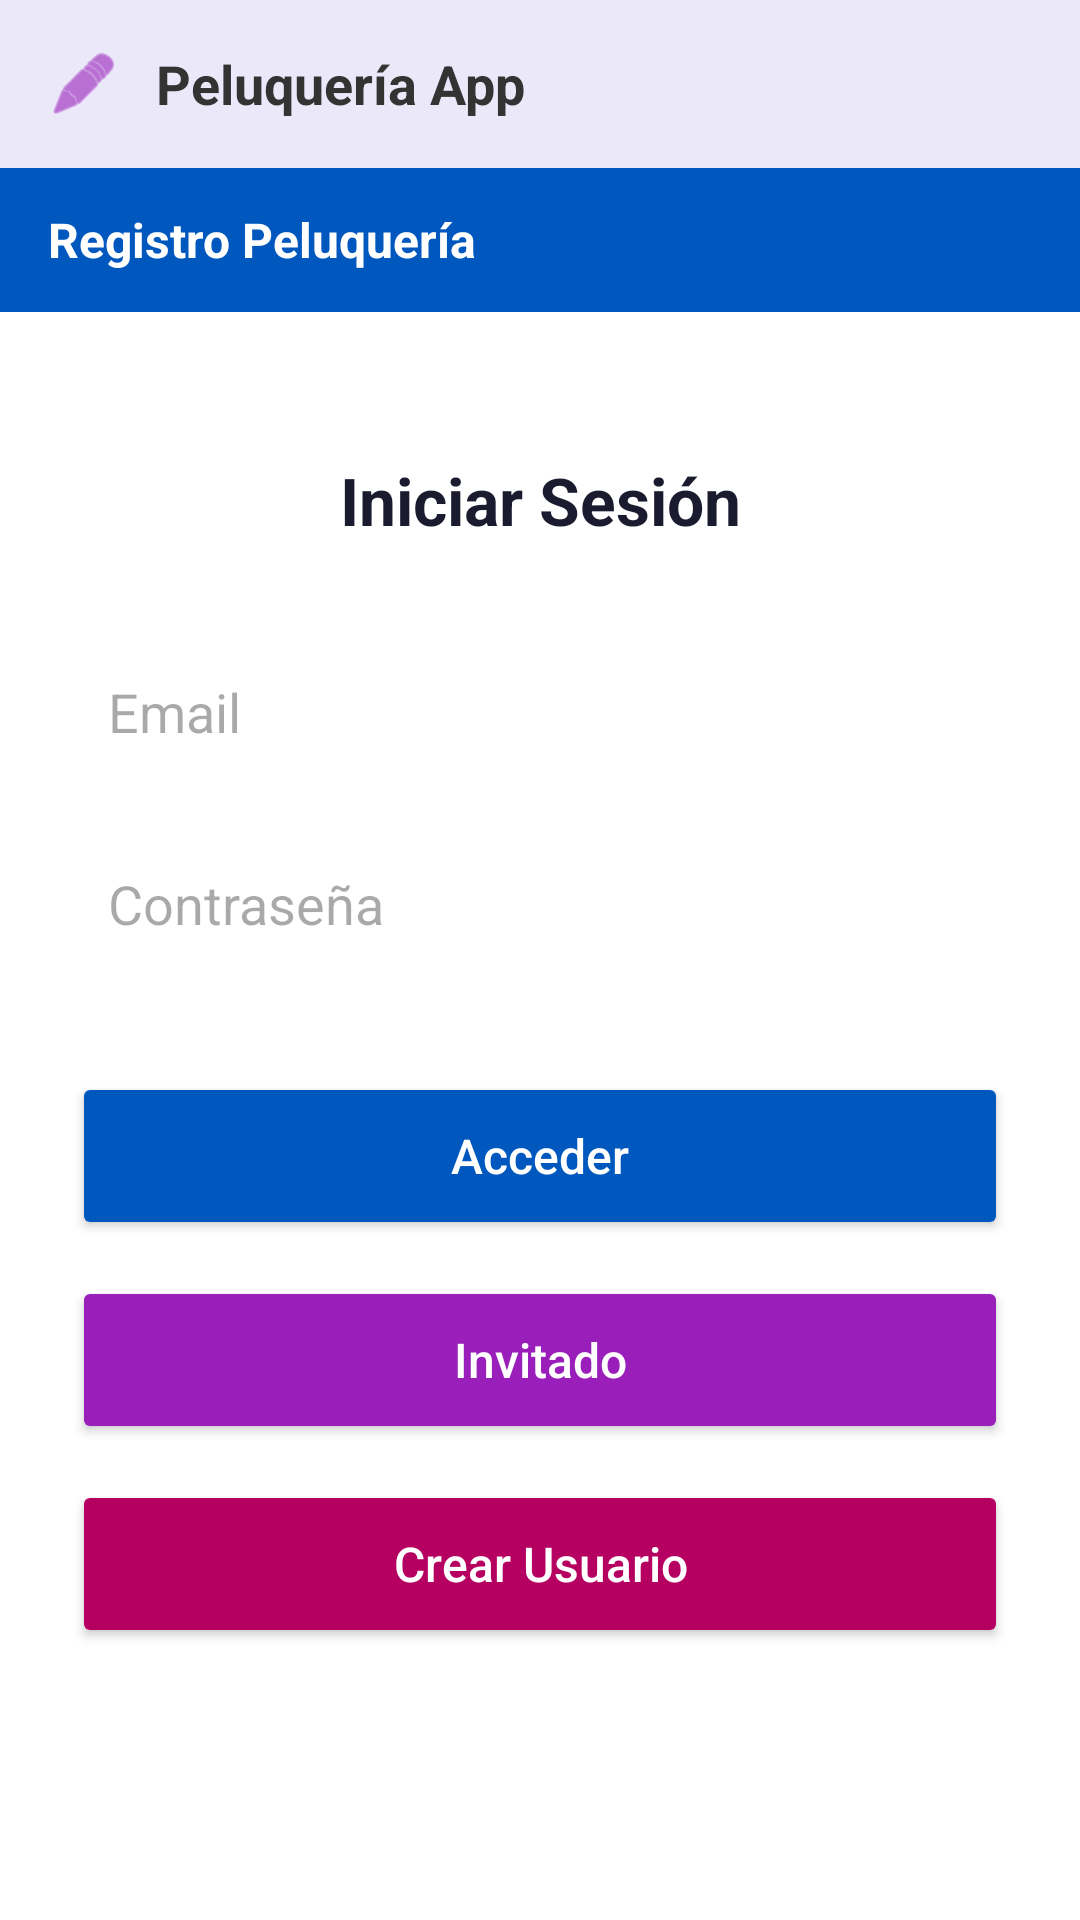

Where to tap for icons on this 1080px×1920px app screen, as [x,y]:
edit: [83,83]
